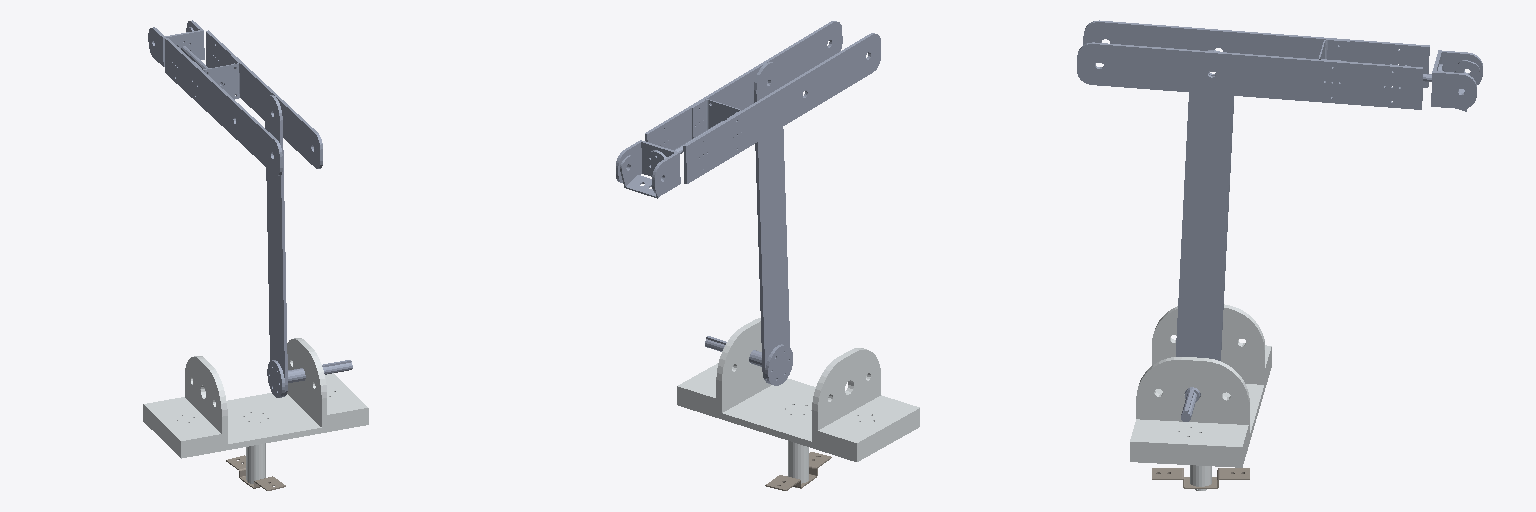
robot.urdf — arm_urdf:
<?xml version="1.0" encoding="utf-8"?>
<!-- This URDF was automatically created by SolidWorks to URDF Exporter! Originally created by [author] ([email redacted]) 
     Commit Version: 1.6.0-4-g7f85cfe  Build Version: 1.6.7995.38578
     For more information, please see http://wiki.ros.org/sw_urdf_exporter -->
<robot
  name="arm_urdf">
  <link
    name="base_link">
    <inertial>
      <origin
        xyz="8.53483950180589E-16 1.06858966120171E-15 0.00947651592460926"
        rpy="0 0 0" />
      <mass
        value="0.0755435281696728" />
      <inertia
        ixx="0.000102391828955976"
        ixy="1.67070776436357E-20"
        ixz="-1.30386191266393E-20"
        iyy="1.02830173032947E-05"
        iyz="1.90504354149964E-20"
        izz="0.000107616552792544" />
    </inertial>
    <visual>
      <origin
        xyz="0 0 0"
        rpy="0 0 0" />
      <geometry>
        <mesh
          filename="package://arm_urdf/meshes/base_link.STL" />
      </geometry>
      <material
        name="">
        <color
          rgba="0.650980392156863 0.619607843137255 0.588235294117647 1" />
      </material>
    </visual>
    <collision>
      <origin
        xyz="0 0 0"
        rpy="0 0 0" />
      <geometry>
        <mesh
          filename="package://arm_urdf/meshes/base_link.STL" />
      </geometry>
    </collision>
  </link>
  <link
    name="link_0">
    <inertial>
      <origin
        xyz="-2.19100150640472E-07 1.65031905488555E-07 0.120415948190145"
        rpy="0 0 0" />
      <mass
        value="3.40036612666339" />
      <inertia
        ixx="0.00768487509467729"
        ixy="0.000766474191290223"
        ixz="-4.23539763776002E-08"
        iyy="0.0138480374895231"
        iyz="3.19011928580574E-08"
        izz="0.018123050602929" />
    </inertial>
    <visual>
      <origin
        xyz="0 0 0"
        rpy="0 0 0" />
      <geometry>
        <mesh
          filename="package://arm_urdf/meshes/link_0.STL" />
      </geometry>
      <material
        name="">
        <color
          rgba="0.898039215686275 0.917647058823529 0.929411764705882 1" />
      </material>
    </visual>
    <collision>
      <origin
        xyz="0 0 0"
        rpy="0 0 0" />
      <geometry>
        <mesh
          filename="package://arm_urdf/meshes/link_0.STL" />
      </geometry>
    </collision>
  </link>
  <joint
    name="joint_0"
    type="continuous">
    <origin
      xyz="0 0 0"
      rpy="0 0 0" />
    <parent
      link="base_link" />
    <child
      link="link_0" />
    <axis
      xyz="0 0 -1" />
    <limit
      lower="-3.14"
      upper="3.14"
      effort="70"
      velocity="0.1" />
  </joint>
  <link
    name="link_1">
    <inertial>
      <origin
        xyz="-0.113228967448876 0.0220623532991946 0.175545489232544"
        rpy="0 0 0" />
      <mass
        value="0.512954343976259" />
      <inertia
        ixx="0.00812627363823426"
        ixy="3.8327728057743E-06"
        ixz="-4.53309567489104E-05"
        iyy="0.00815751730242016"
        iyz="-0.000360953590732469"
        izz="0.00032103355854709" />
    </inertial>
    <visual>
      <origin
        xyz="0 0 0"
        rpy="0 0 0" />
      <geometry>
        <mesh
          filename="package://arm_urdf/meshes/link_1.STL" />
      </geometry>
      <material
        name="">
        <color
          rgba="0.666666666666667 0.698039215686274 0.768627450980392 1" />
      </material>
    </visual>
    <collision>
      <origin
        xyz="0 0 0"
        rpy="0 0 0" />
      <geometry>
        <mesh
          filename="package://arm_urdf/meshes/link_1.STL" />
      </geometry>
    </collision>
  </link>
  <joint
    name="joint_1"
    type="revolute">
    <origin
      xyz="0.1608 -0.019697 0.171"
      rpy="0 0 0" />
    <parent
      link="link_0" />
    <child
      link="link_1" />
    <axis
      xyz="-0.99258 0.12159 0" />
    <limit
      lower="-1.57"
      upper="1.57"
      effort="22"
      velocity="0.1" />
  </joint>
  <link
    name="link_2">
    <inertial>
      <origin
        xyz="-0.0263115602867661 0.0689507284305965 -0.00171647155692056"
        rpy="0 0 0" />
      <mass
        value="0.846218374168244" />
      <inertia
        ixx="0.0128068291075615"
        ixy="-0.00152733969680104"
        ixz="3.99128125780627E-05"
        iyy="0.000525640693120057"
        iyz="0.000325824242854812"
        izz="0.0128064623612119" />
    </inertial>
    <visual>
      <origin
        xyz="0 0 0"
        rpy="0 0 0" />
      <geometry>
        <mesh
          filename="package://arm_urdf/meshes/link_2.STL" />
      </geometry>
      <material
        name="">
        <color
          rgba="0.666666666666667 0.698039215686274 0.768627450980392 1" />
      </material>
    </visual>
    <collision>
      <origin
        xyz="0 0 0"
        rpy="0 0 0" />
      <geometry>
        <mesh
          filename="package://arm_urdf/meshes/link_2.STL" />
      </geometry>
    </collision>
  </link>
  <joint
    name="joint_2"
    type="revolute">
    <origin
      xyz="-0.1141 0.034954 0.44952"
      rpy="0 0 0" />
    <parent
      link="link_1" />
    <child
      link="link_2" />
    <axis
      xyz="0.99258 -0.12159 0" />
    <limit
      lower="-3.14"
      upper="3.14"
      effort="30"
      velocity="0.1" />
  </joint>
  <link
    name="link_3">
    <inertial>
      <origin
        xyz="0.0182555881394624 0.149027663027858 -0.00395024590305426"
        rpy="0 0 0" />
      <mass
        value="0.160718092180844" />
      <inertia
        ixx="0.000188381727997367"
        ixy="-8.67487144764979E-06"
        ixz="4.41812645801988E-07"
        iyy="0.000118628792712216"
        iyz="3.63889513004483E-06"
        izz="0.000256793056900497" />
    </inertial>
    <visual>
      <origin
        xyz="0 0 0"
        rpy="0 0 0" />
      <geometry>
        <mesh
          filename="package://arm_urdf/meshes/link_3.STL" />
      </geometry>
      <material
        name="">
        <color
          rgba="0.666666666666667 0.698039215686274 0.768627450980392 1" />
      </material>
    </visual>
    <collision>
      <origin
        xyz="0 0 0"
        rpy="0 0 0" />
      <geometry>
        <mesh
          filename="package://arm_urdf/meshes/link_3.STL" />
      </geometry>
    </collision>
  </link>
  <joint
    name="joint_3"
    type="continuous">
    <origin
      xyz="-0.016984 0.14509 -0.0037347"
      rpy="0 0 0" />
    <parent
      link="link_2" />
    <child
      link="link_3" />
    <axis
      xyz="0.12155 0.99224 -0.026301" />
    <limit
      lower="-9"
      upper="9"
      effort="14"
      velocity="0.1" />
  </joint>
  <link
    name="link_4">
    <inertial>
      <origin
        xyz="-0.0352925750445707 -0.000259593580767492 -0.0143728232024618"
        rpy="0 0 0" />
      <mass
        value="0.0312380442088933" />
      <inertia
        ixx="8.1922861175776E-06"
        ixy="1.90880647176979E-06"
        ixz="-1.09536332607884E-07"
        iyy="2.35405812270382E-05"
        iyz="-8.87862921679776E-07"
        izz="2.12313362096578E-05" />
    </inertial>
    <visual>
      <origin
        xyz="0 0 0"
        rpy="0 0 0" />
      <geometry>
        <mesh
          filename="package://arm_urdf/meshes/link_4.STL" />
      </geometry>
      <material
        name="">
        <color
          rgba="0.666666666666667 0.698039215686274 0.768627450980392 1" />
      </material>
    </visual>
    <collision>
      <origin
        xyz="0 0 0"
        rpy="0 0 0" />
      <geometry>
        <mesh
          filename="package://arm_urdf/meshes/link_4.STL" />
      </geometry>
    </collision>
  </link>
  <joint
    name="joint_4"
    type="revolute">
    <origin
      xyz="0.057834 0.18427 -0.0049952"
      rpy="0 0 0" />
    <parent
      link="link_3" />
    <child
      link="link_4" />
    <axis
      xyz="-0.99258 0.12159 -5.8053E-05" />
    <limit
      lower="-1.56"
      upper="1.56"
      effort="4"
      velocity="0.2" />
  </joint>
</robot>

--- Facts derived from the render (not from the file) ---
Views: 3 orthographic renders of the robot side by side, from view 1: azimuth 30°, elevation 25°; view 2: azimuth 150°, elevation 25°; view 3: azimuth 270°, elevation 25°.
Model arm_urdf with 6 links and 5 joints (3 revolute, 2 continuous), rooted at base_link, posed all joints at 0.
Visible links, largest first — view 1: link_0, link_2, link_1, link_3, base_link; view 2: link_0, link_2, link_1, link_3, link_4, base_link; view 3: link_2, link_0, link_1, link_3, base_link.
Link boxes in pixels (left/top/right/bottom): link_0: left=143, top=338, right=368, bottom=483; link_2: left=165, top=30, right=322, bottom=175; link_1: left=265, top=95, right=352, bottom=397; link_3: left=148, top=20, right=223, bottom=86; base_link: left=226, top=455, right=285, bottom=490; link_0: left=677, top=318, right=919, bottom=487; link_2: left=645, top=21, right=880, bottom=183; link_1: left=705, top=62, right=792, bottom=385; link_3: left=616, top=121, right=723, bottom=194; link_4: left=620, top=155, right=662, bottom=198; base_link: left=765, top=452, right=831, bottom=490; link_2: left=1077, top=20, right=1429, bottom=109; link_0: left=1130, top=304, right=1271, bottom=490; link_1: left=1176, top=50, right=1233, bottom=421; link_3: left=1423, top=50, right=1482, bottom=108; base_link: left=1152, top=468, right=1249, bottom=488.
Bounding box of the posed robot: 0.3359 × 0.537 × 0.6627 m (x, y, z).
Meshes: 6 distinct files referenced, 6 mesh visuals loaded (6 binary STL).